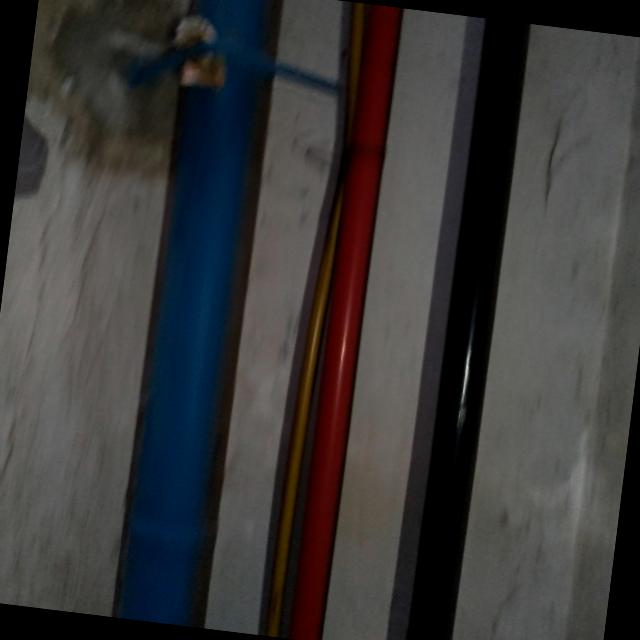gas: (112, 0, 285, 628), (399, 17, 532, 640), (282, 2, 405, 640)
